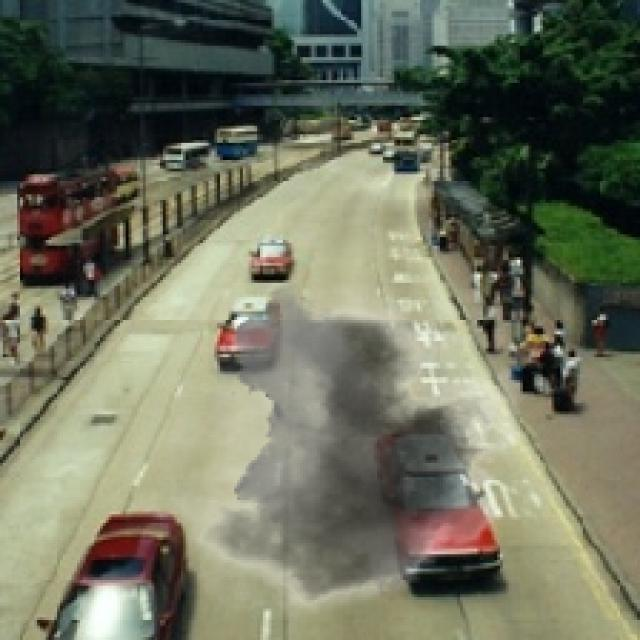smoke: (123, 283, 543, 631)
